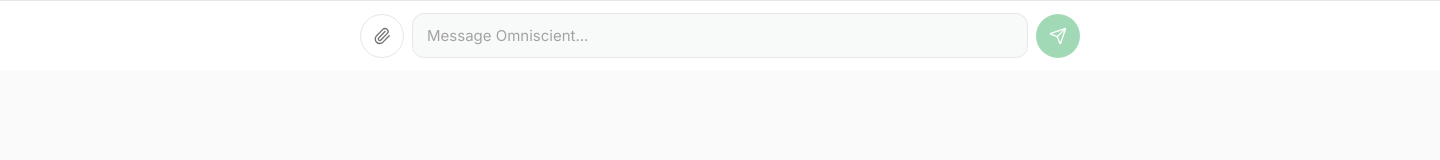
it: ChatComposer › sends the trimmed message and clears the input on submit
Type "  Find me a hostel  " into the text box labelled "Message Omniscient" at x=720, y=36, box top-left (412, 13), bottom-right (1028, 58)
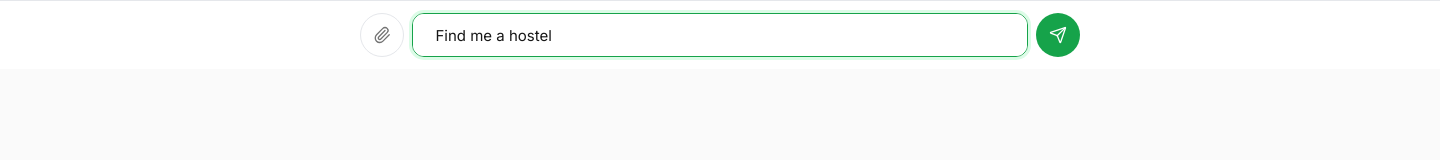
Click the button named "Send message" at x=1058, y=35, box top-left (1036, 13), bottom-right (1080, 57)
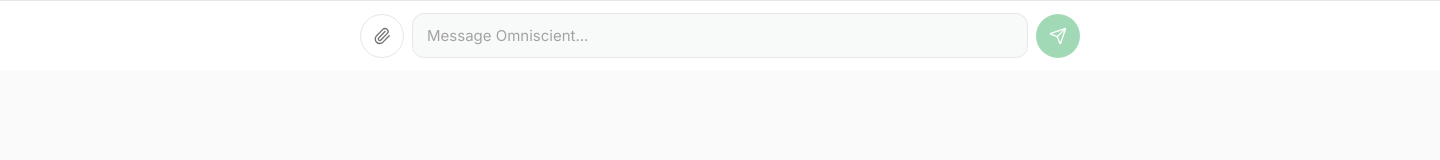
Check: the text box labelled "Message Omniscient" is empty, box top-left (412, 13), bottom-right (1028, 58)
